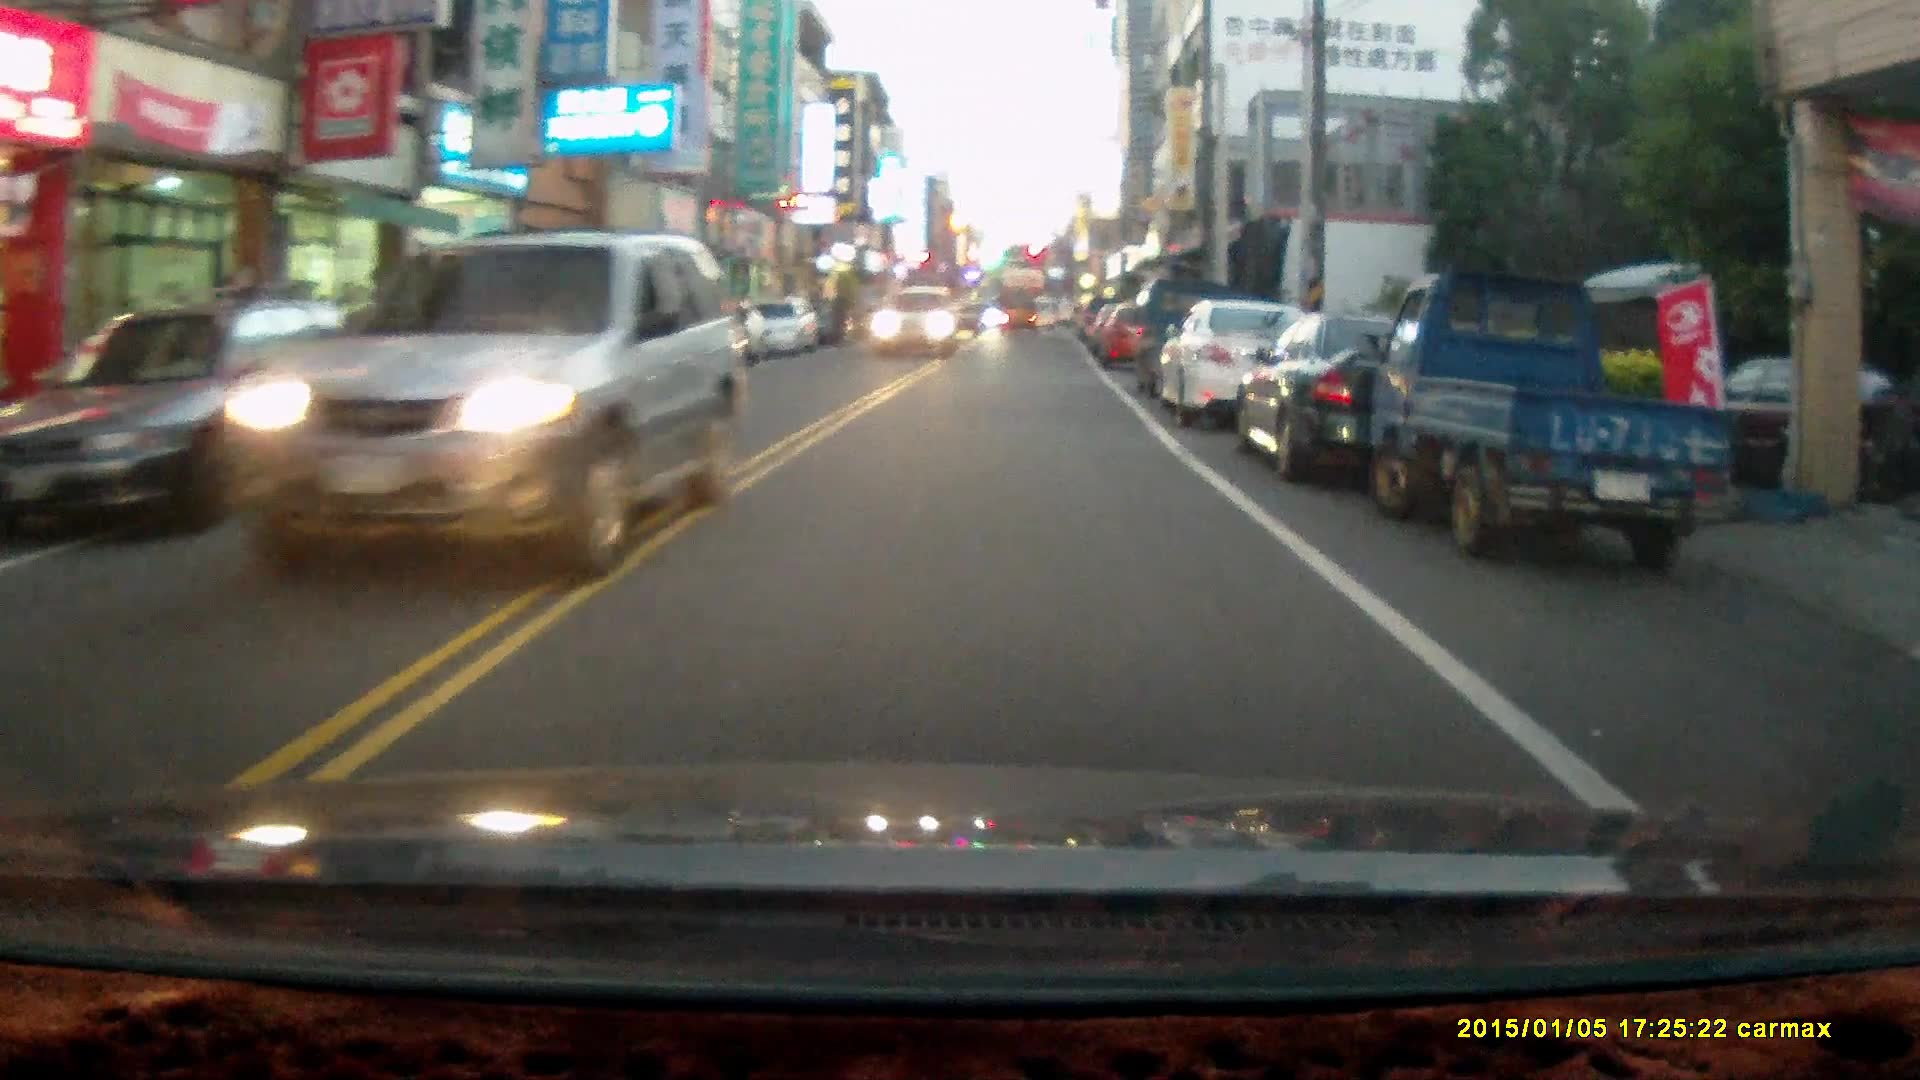vehicle: (222, 227, 750, 579), (1366, 272, 1731, 574), (1, 297, 407, 541), (1236, 309, 1534, 487), (1150, 299, 1331, 429), (873, 286, 963, 364), (1095, 302, 1174, 375), (744, 297, 822, 361), (998, 290, 1042, 339)
